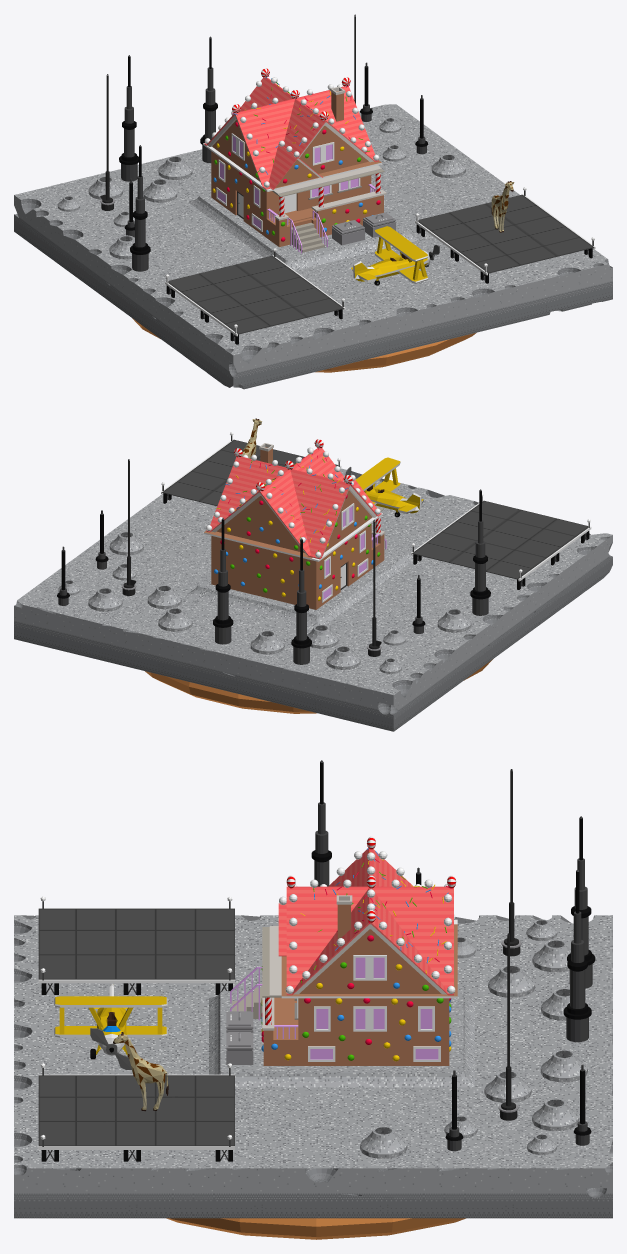
3 renders of one model, top to bottom at view 1: azimuth 30°, elevation 25°; view 2: azimuth 150°, elevation 25°; view 3: azimuth 270°, elevation 25°, orthographic. The views are drawn at different scales.
Parts seen in each view (by area): view 1: Cube.027, Cube.1203, Cube.025, Cube.026, Cube.028, VEHICLES_AIRPLANE, UNDERGROUND_PIZZA, Cylinder.021, Cylinder.020, Cylinder.017, Cube.029, Cylinder.026 (+6 smaller); view 2: Cube.027, Cube.1203, Cube.025, Cube.028, Cube.026, VEHICLES_AIRPLANE, UNDERGROUND_PIZZA, Cylinder.017, Cylinder.021, Cylinder.020, Cylinder.027, Cylinder.025 (+8 smaller); view 3: Cube.027, Cube.1203, Cube.025, Cube.026, Cube.028, UNDERGROUND_PIZZA, VEHICLES_AIRPLANE, Cylinder.017, ANIMAL_JIRAFA, Cylinder.020, Cylinder.021, Cylinder.033 (+10 smaller).
Part boxes in pixels (<box>): Cube.027: <box>14,104,612,389</box>; Cube.1203: <box>203,68,386,253</box>; Cube.025: <box>165,248,345,344</box>; Cube.026: <box>415,187,595,283</box>; Cube.028: <box>189,192,418,270</box>; VEHICLES_AIRPLANE: <box>351,226,439,285</box>; UNDERGROUND_PIZZA: <box>132,318,476,372</box>; Cylinder.021: <box>130,145,150,271</box>; Cylinder.020: <box>119,55,138,181</box>; Cylinder.017: <box>200,36,217,162</box>; Cube.029: <box>332,220,364,245</box>; Cylinder.026: <box>143,178,177,202</box>; Cube.027: <box>14,468,612,731</box>; Cube.1203: <box>204,439,386,609</box>; Cube.025: <box>411,493,591,589</box>; Cube.028: <box>187,545,413,626</box>; Cube.026: <box>161,432,341,505</box>; VEHICLES_AIRPLANE: <box>345,457,423,517</box>; UNDERGROUND_PIZZA: <box>145,659,492,713</box>; Cylinder.017: <box>213,518,233,644</box>; Cylinder.021: <box>470,489,490,615</box>; Cylinder.020: <box>291,538,311,664</box>; Cylinder.027: <box>250,630,284,654</box>; Cylinder.025: <box>437,608,471,632</box>; Cube.027: <box>14,915,612,1218</box>; Cube.1203: <box>230,836,457,1065</box>; Cube.025: <box>38,896,234,994</box>; Cube.026: <box>38,1063,234,1161</box>; Cube.028: <box>209,991,474,1087</box>; UNDERGROUND_PIZZA: <box>166,1218,465,1239</box>; VEHICLES_AIRPLANE: <box>54,983,167,1069</box>; Cylinder.017: <box>563,869,591,1042</box>; ANIMAL_JIRAFA: <box>113,1032,168,1111</box>; Cylinder.020: <box>567,816,595,988</box>; Cylinder.021: <box>311,760,331,886</box>; Cylinder.033: <box>360,1126,407,1158</box>.
Size of the model in its own units: 4000 by 2011 by 4000.
Materials: 49 (5 with a texture image).
